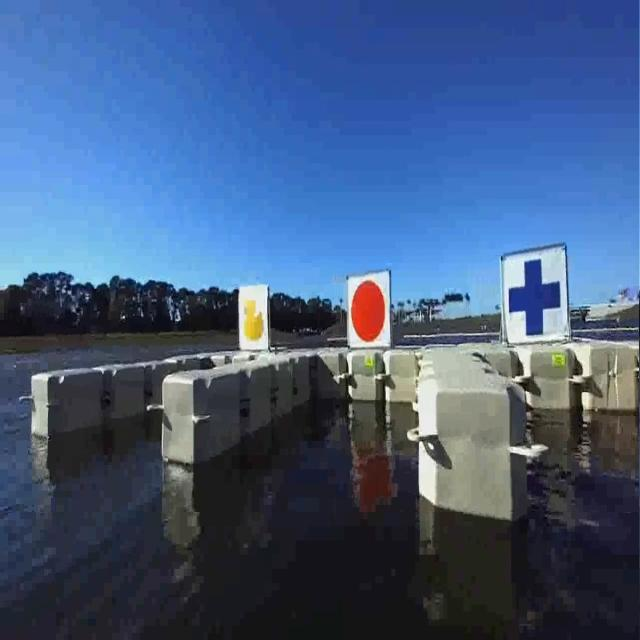blue-cross: (499, 249, 574, 341)
red-dot: (347, 276, 390, 346)
yellow-duck: (237, 284, 269, 351)
